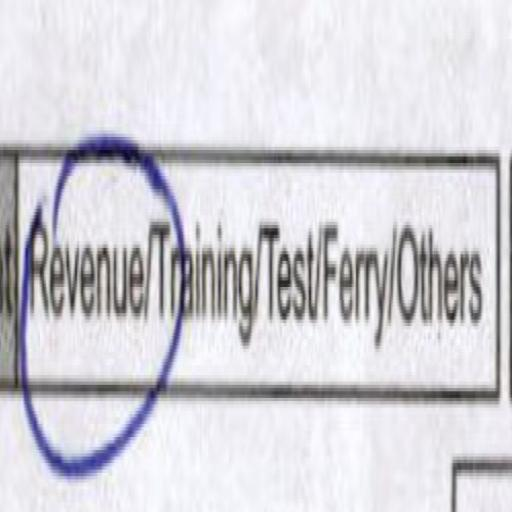check: (22, 129, 150, 497)
